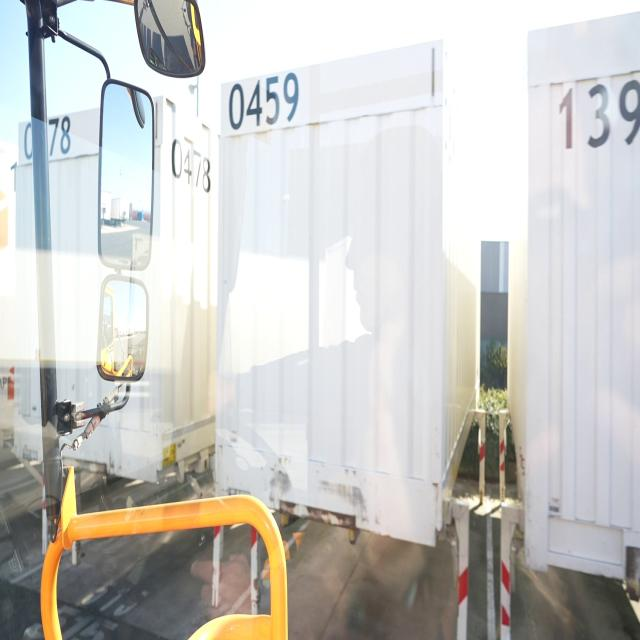Code: (227, 66, 300, 135), (169, 127, 213, 195)
